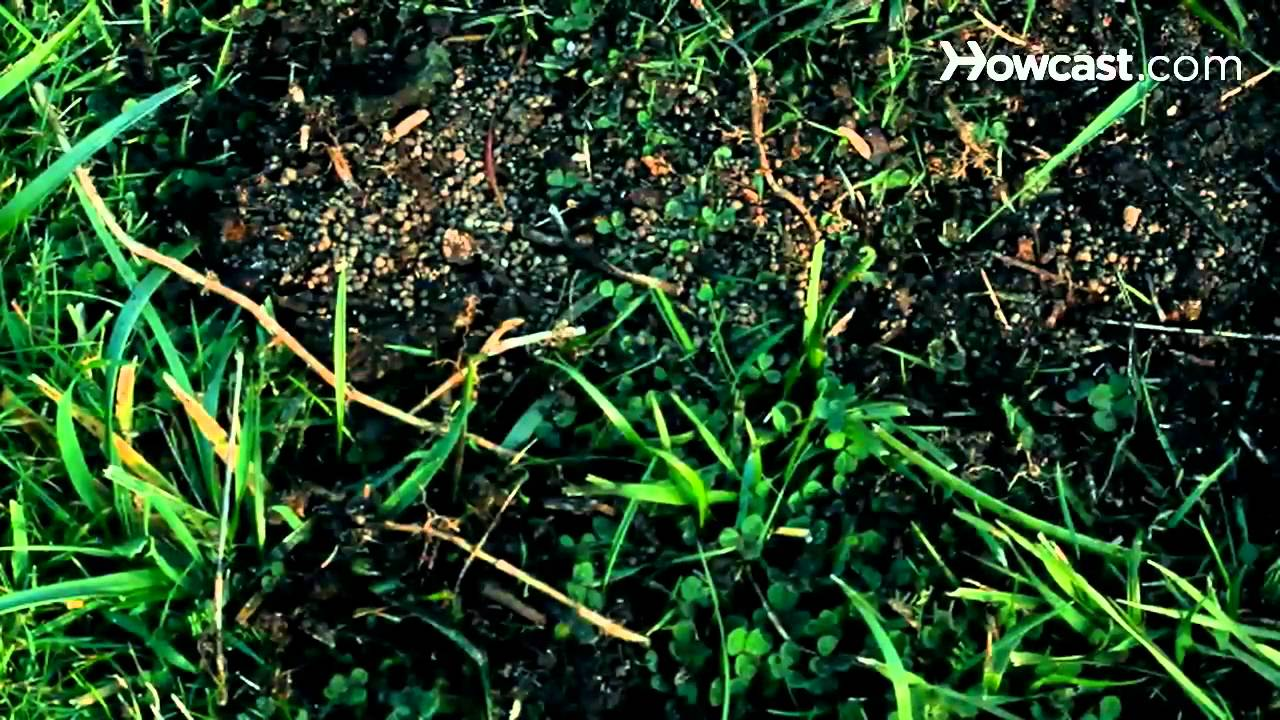crabgrass: (520, 311, 922, 571), (18, 304, 275, 665), (994, 495, 1229, 720)
